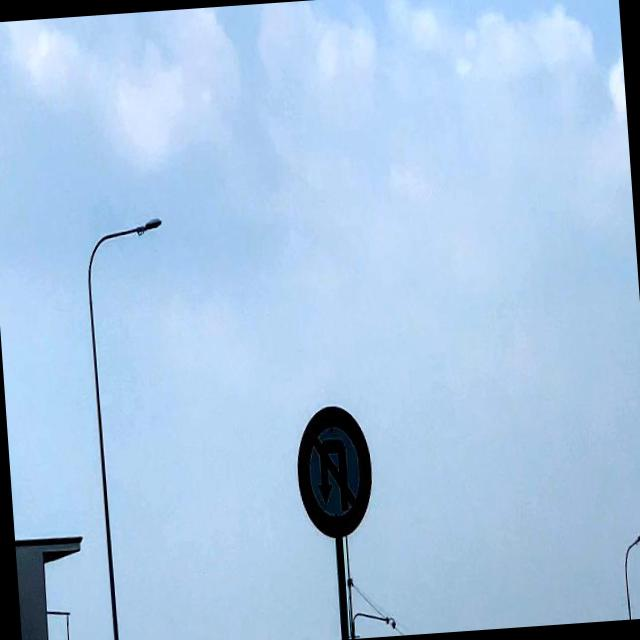P-124a1: (292, 400, 378, 540)
